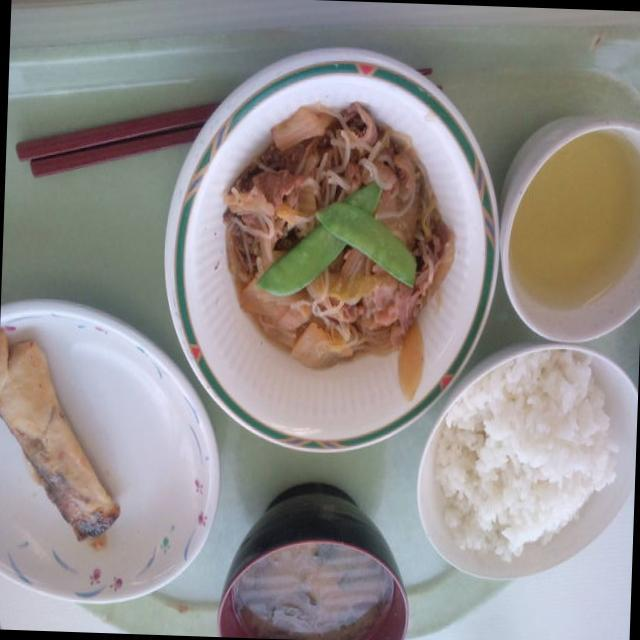Rice: (434, 346, 622, 594)
